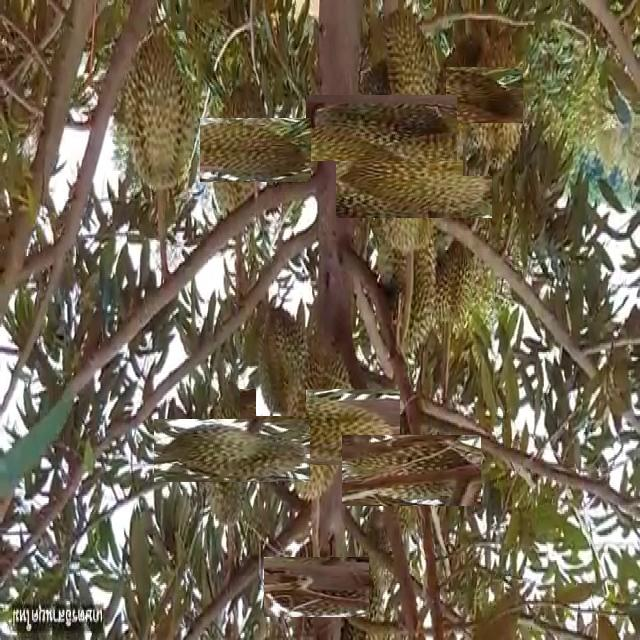durian: (118, 27, 200, 206), (260, 368, 379, 486), (356, 121, 472, 238), (177, 396, 287, 506), (328, 73, 437, 183), (185, 97, 291, 203), (359, 417, 464, 523), (463, 31, 528, 176), (381, 7, 446, 152), (374, 228, 440, 365), (414, 49, 506, 140), (275, 546, 358, 629), (256, 304, 306, 416), (432, 238, 476, 338)
